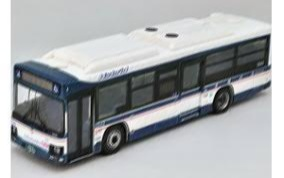bus: (12, 21, 273, 165)
